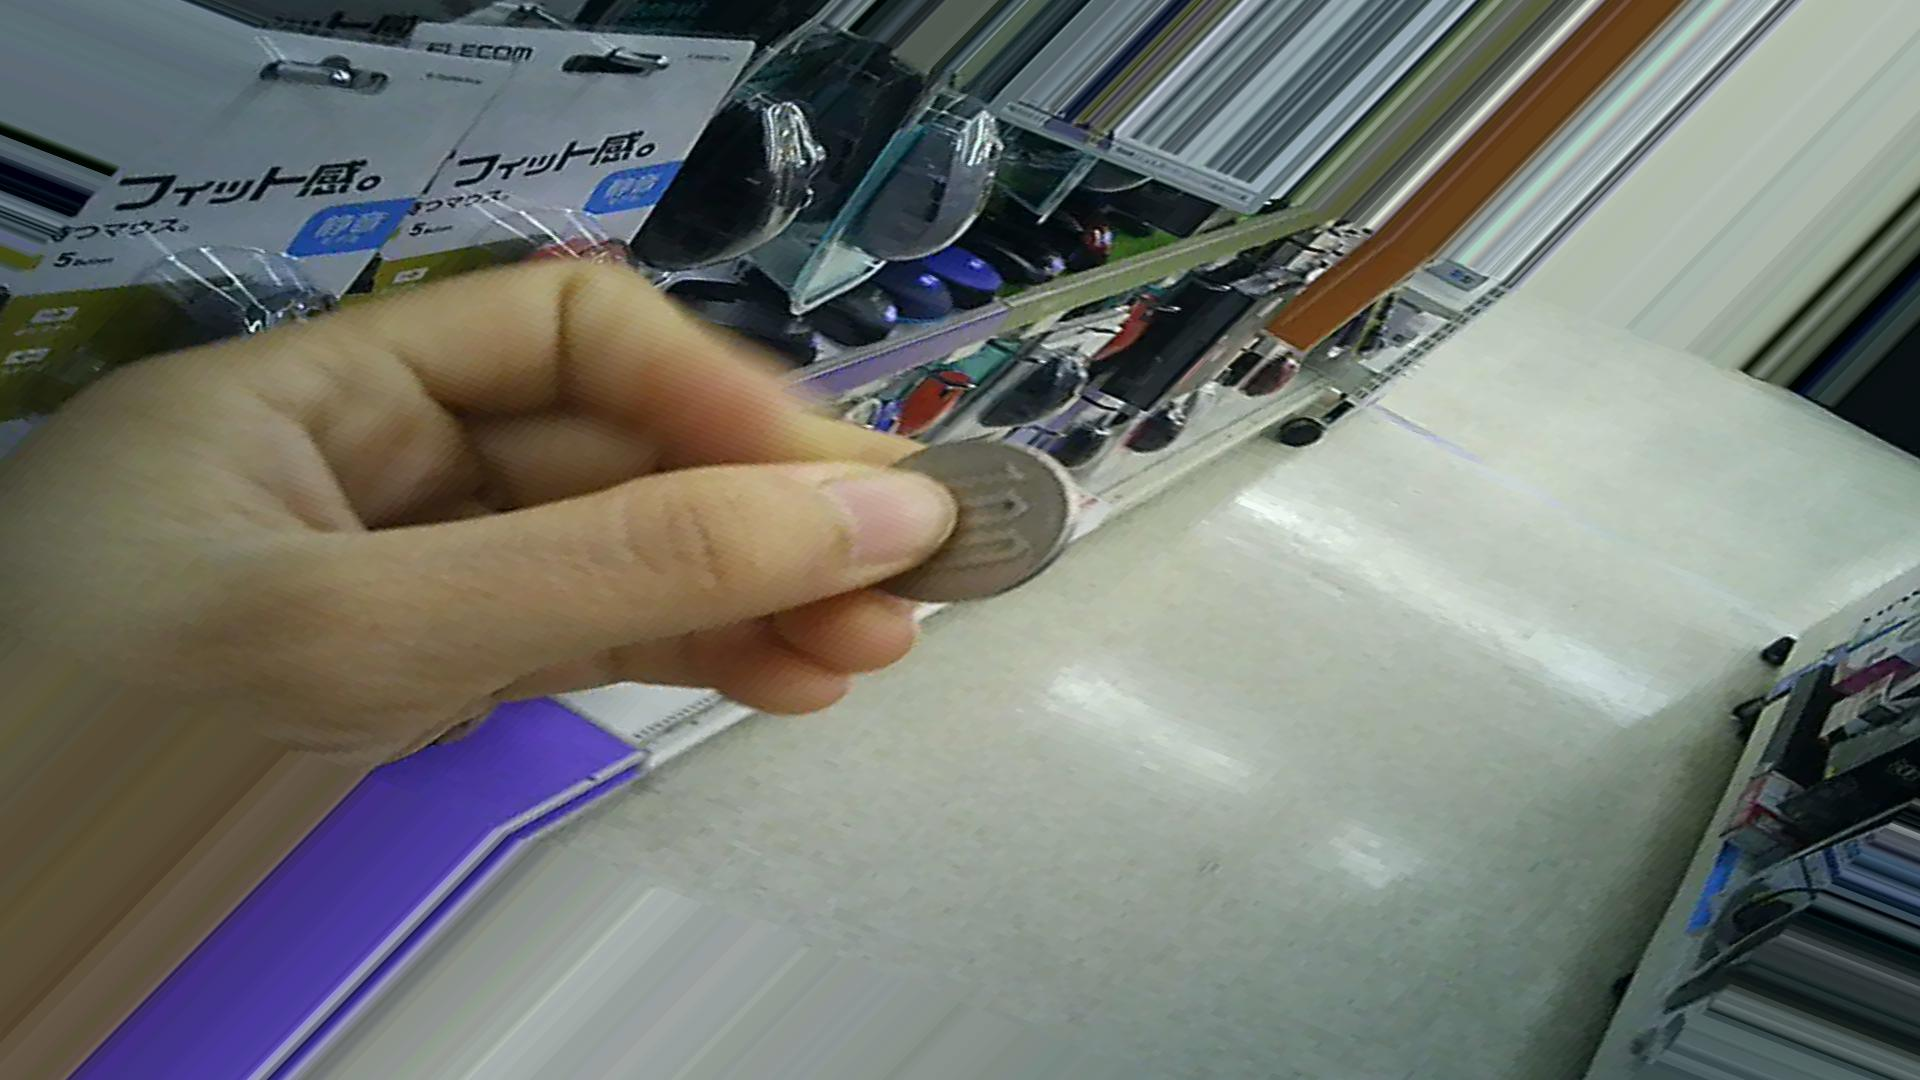100 Yen: (852, 434, 1087, 618)
